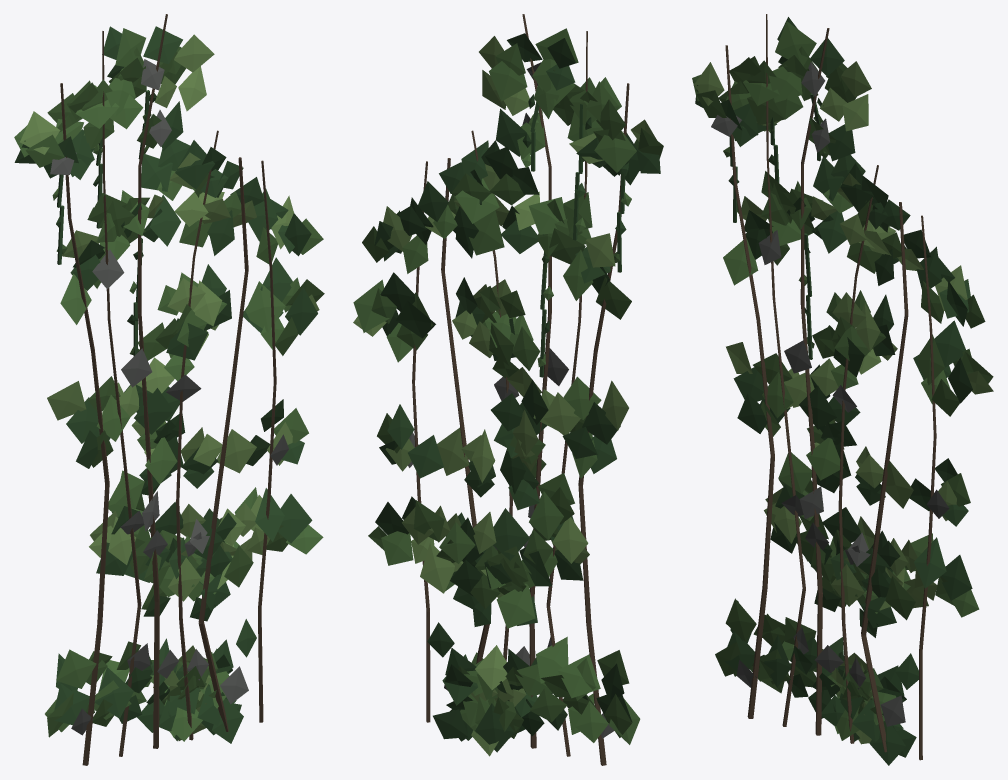
The model's file is vine_wall_m.glb.
3 renders of one model, left to right at view 1: azimuth 30°, elevation 25°; view 2: azimuth 150°, elevation 25°; view 3: azimuth 330°, elevation 25°, orthographic. The views are drawn at different scales.
Visible parts, largest first — view 1: vine_wall_m; view 2: vine_wall_m; view 3: vine_wall_m.
Part boxes in pixels (x1,y1,x2,y2): vine_wall_m: (14, 14, 324, 765); vine_wall_m: (353, 14, 663, 765); vine_wall_m: (692, 14, 993, 765).
Size of the model in its own units: 3.36 by 7.69 by 0.326.
Materials: 1 (1 with a texture image).
